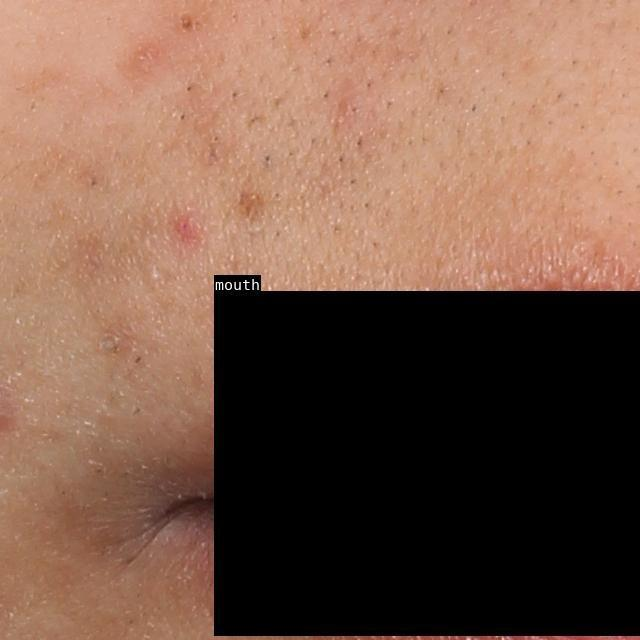comedo: (174, 10, 200, 40)
papule: (172, 209, 212, 250)
